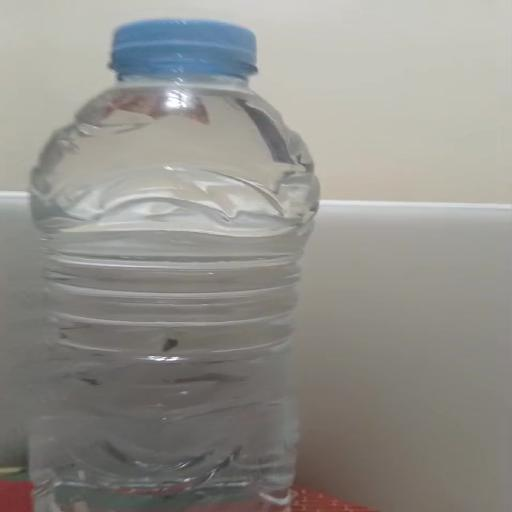bouteille non conformite: (12, 12, 352, 508)
